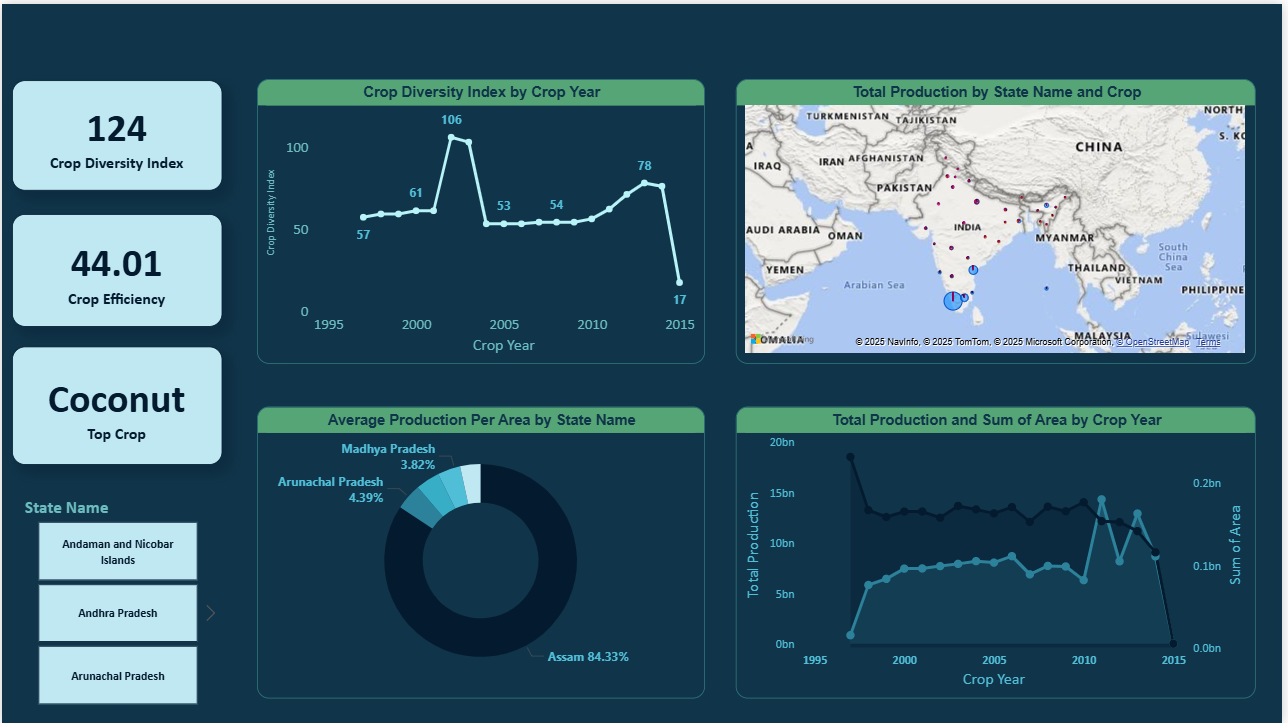

Layout of this report page (visuals, bound fields, positions):
{"tool":"powerbi","page":{"name":"Detailed Analysis ","canvas":[1280,720],"ordinal":1},"visuals":[{"type":"card","fields":{"Values":["Crop Production.Crop Diversity Index"]},"box":[10,75.7,210,110],"z":0},{"type":"card","fields":{"Values":["Crop Production.Crop Efficiency"]},"box":[10,210,210,112.9],"z":1000},{"type":"card","fields":{"Values":["Crop Production.Top Crop"]},"box":[10,342.9,210,118.6],"z":2000},{"type":"lineChart","fields":{"Category":["Crop Production.Crop Year"],"Y":["Crop Production.Crop Diversity Index"]},"box":[255.1,75.1,447.9,284.9],"z":3000},{"type":"map","fields":{"Category":["Crop Production.State Name"],"Series":["Crop Production.Crop"],"Size":["Crop Production.Total Production"]},"box":[734.3,75.1,520.2,284.9],"z":4000},{"type":"donutChart","fields":{"Y":["Crop Production.Average Production Per Area"],"Category":["Crop Production.State Name"]},"box":[255.1,402.6,447.9,292],"z":5000},{"type":"areaChart","fields":{"Y":["Crop Production.Total Production"],"Y2":["Sum(Crop Production.Area)"],"Category":["Crop Production.Crop Year"]},"box":[734.3,402.6,520.2,292],"z":6000},{"type":"slicer","fields":{"Values":["Crop Production.State Name"]},"box":[9.9,487.6,209.8,219.7],"z":7000}]}

Visuals, with their boxes in screenshot pixels (x1, y1, x2, y2), scaled from the page's 1280x720 canvas onto the 1288x723 screenshot:
card - Crop Production.Crop Diversity Index: x1=10 y1=76 x2=221 y2=186
card - Crop Production.Crop Efficiency: x1=10 y1=211 x2=221 y2=324
card - Crop Production.Top Crop: x1=10 y1=344 x2=221 y2=463
lineChart - Crop Production.Crop Year x Crop Production.Crop Diversity Index: x1=257 y1=75 x2=707 y2=362
map - Crop Production.State Name x Crop Production.Crop: x1=739 y1=75 x2=1262 y2=362
donutChart - Crop Production.Average Production Per Area x Crop Production.State Name: x1=257 y1=404 x2=707 y2=697
areaChart - Crop Production.Total Production x Sum(Crop Production.Area): x1=739 y1=404 x2=1262 y2=697
slicer - Crop Production.State Name: x1=10 y1=490 x2=221 y2=710
